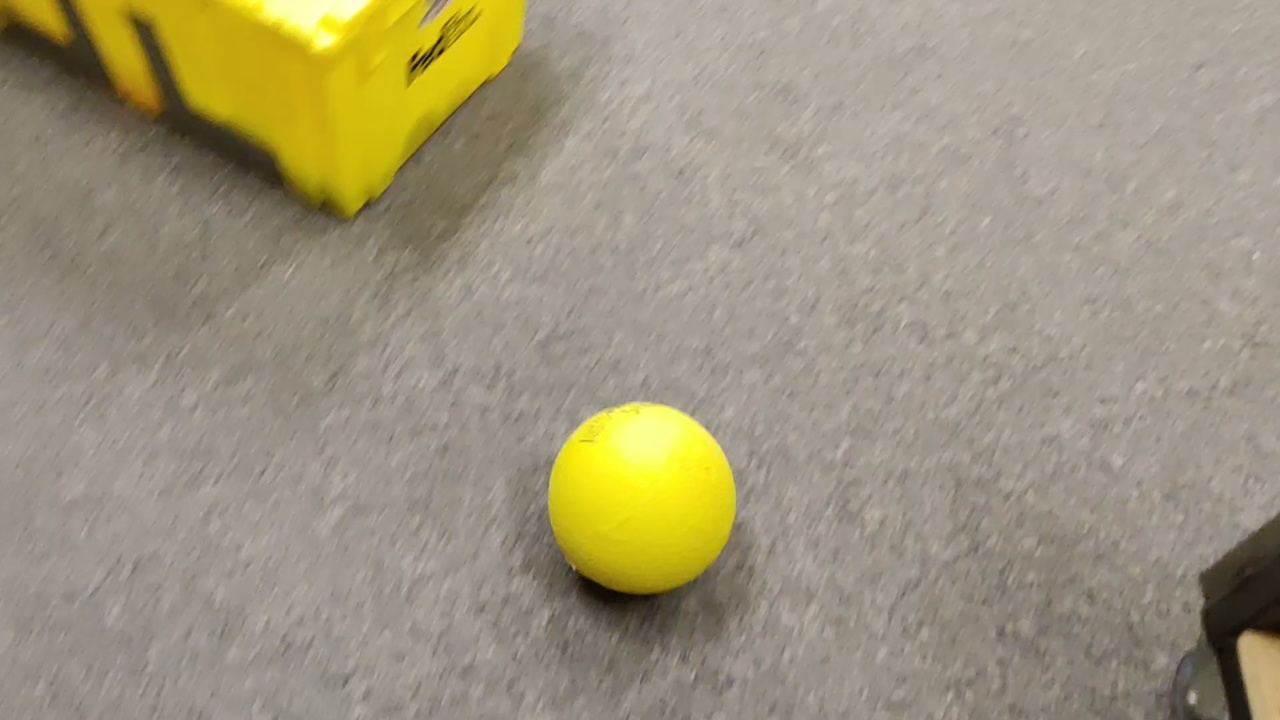Ball: (549, 405, 737, 594)
